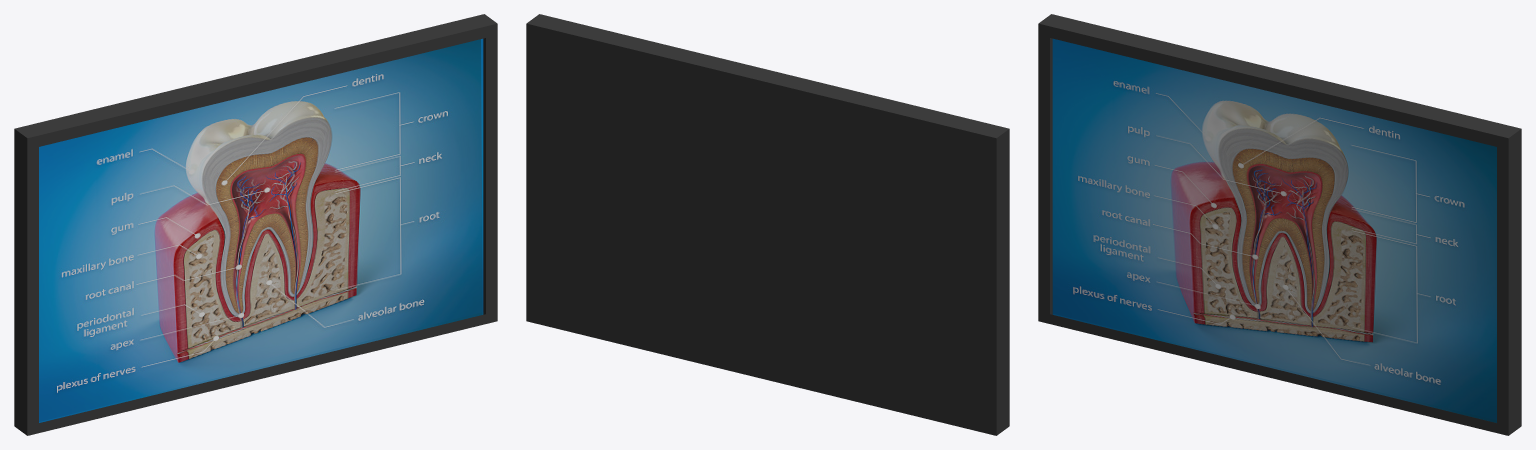
File: HiasanRumah.fbx
The picture shows the model from 3 angles, left to right: view 1: azimuth 30°, elevation 25°; view 2: azimuth 150°, elevation 25°; view 3: azimuth 330°, elevation 25°; orthographic projection.
Visible parts, largest first — view 1: GambarHiasanRumah; view 2: GambarHiasanRumah; view 3: GambarHiasanRumah.
Part boxes in pixels (left/top/right/bottom): GambarHiasanRumah: left=14, top=14, right=497, bottom=435; GambarHiasanRumah: left=526, top=14, right=1009, bottom=435; GambarHiasanRumah: left=1038, top=14, right=1521, bottom=435.
Size of the model in its own units: 100 by 60.51 by 4.82.
Materials: 2 (1 with a texture image).
